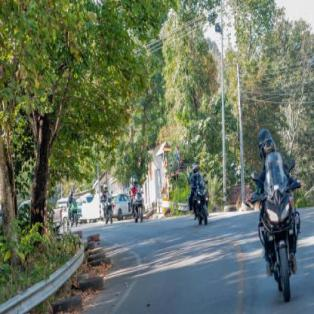Motocicleta: (249, 157, 298, 306)
